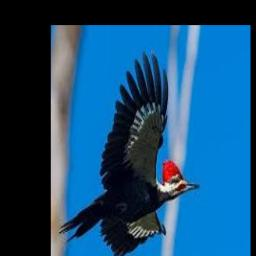Woodpecker: (59, 50, 199, 256)
